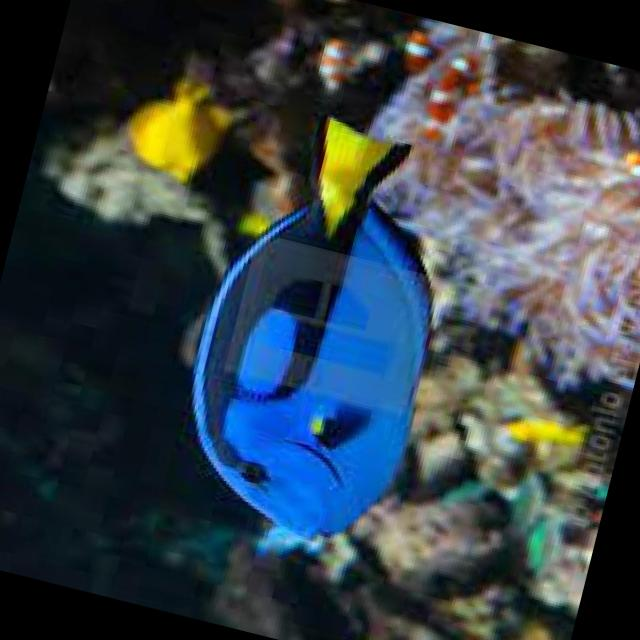BlueTang: (155, 99, 479, 557)
ClownFish: (416, 40, 494, 144), (314, 34, 359, 92)
YellowTang: (114, 66, 244, 194)
